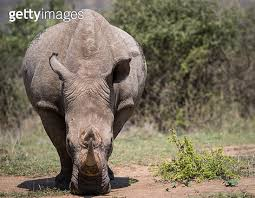Rhinoceros: (24, 8, 146, 196)
